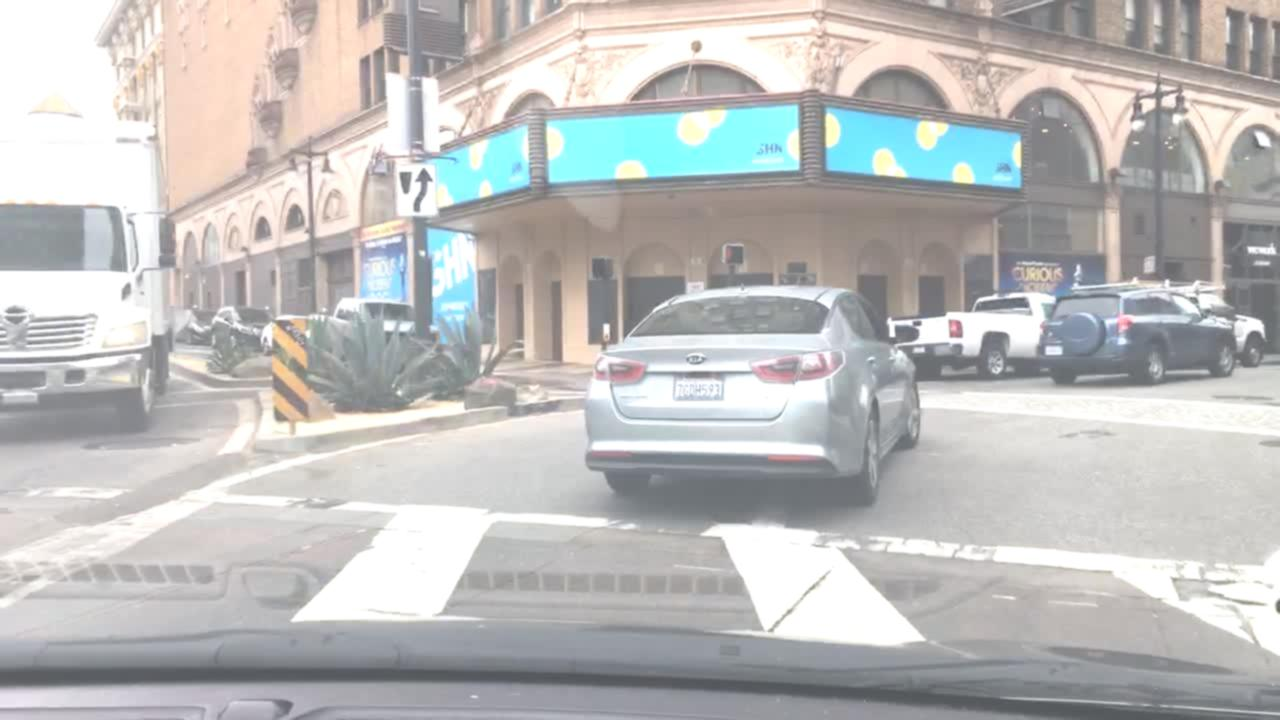kia: (684, 351, 708, 369)
